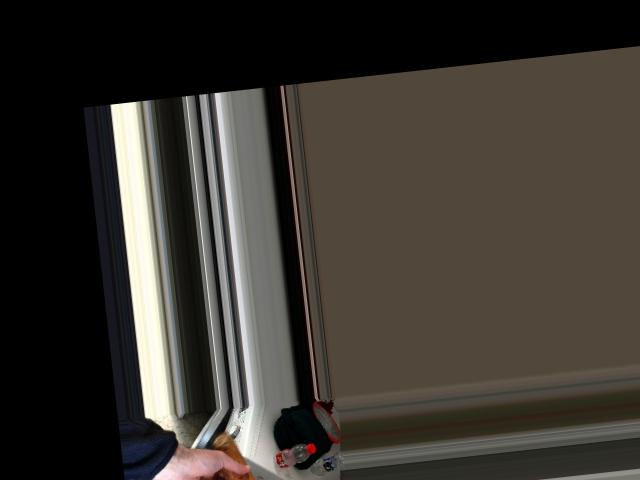sweet_potato: (213, 435, 267, 480)
